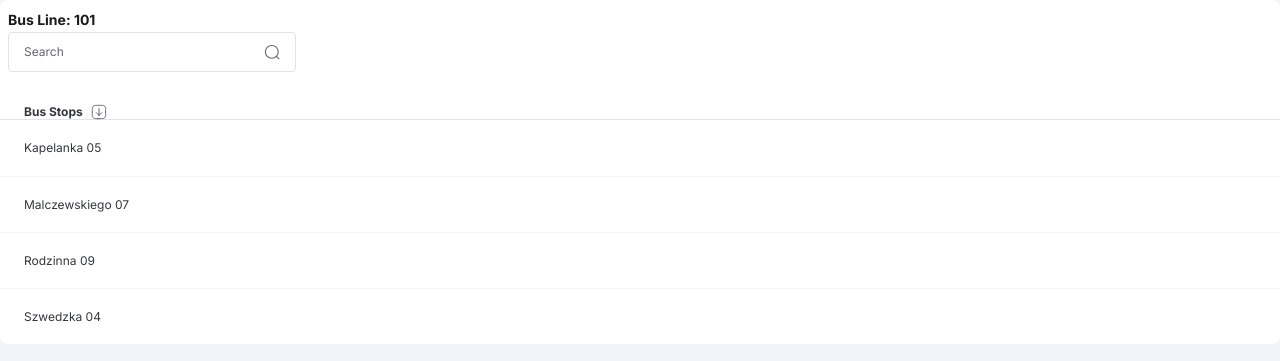
StopsList.vue › shows "No stops found" message when filteredStops is empty
The image size is (1280, 361).
Type "Nonexistent Stop" into the field labelled "Search".
click(152, 52); type("Nonexistent Stop")  # box [8,32,296,72]
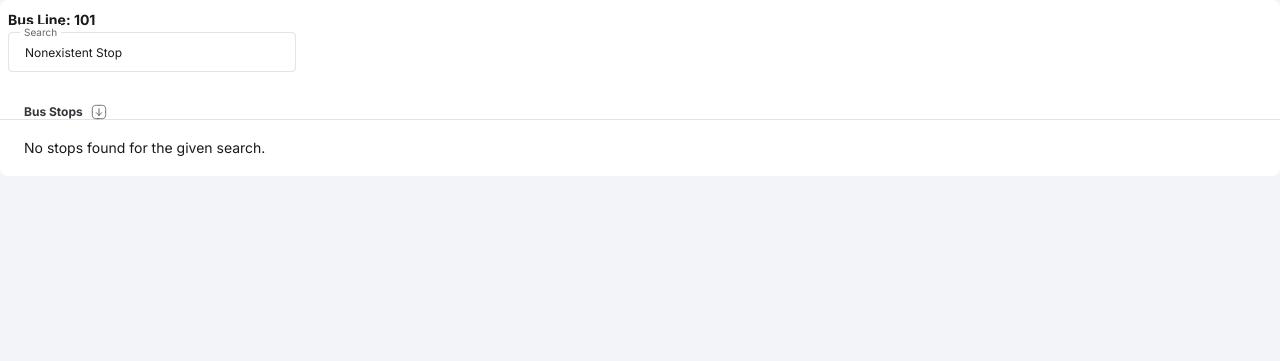
Check: the text with class "no-results" reads "No stops found for the given search.", box [24,139,265,156]
